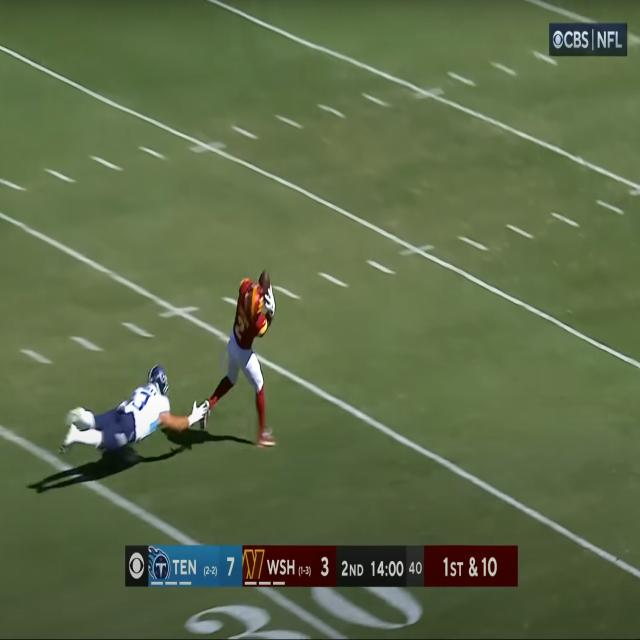football: (258, 264, 272, 308)
players: (59, 360, 208, 469), (210, 252, 281, 453)
